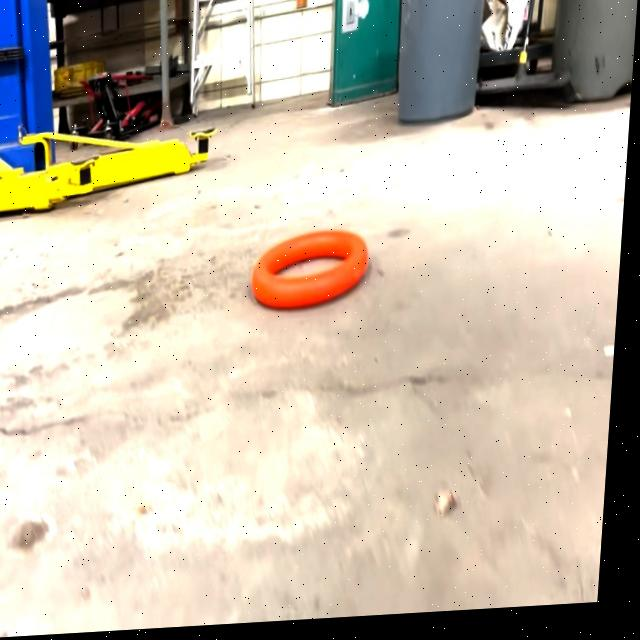note: (255, 229, 373, 320)
